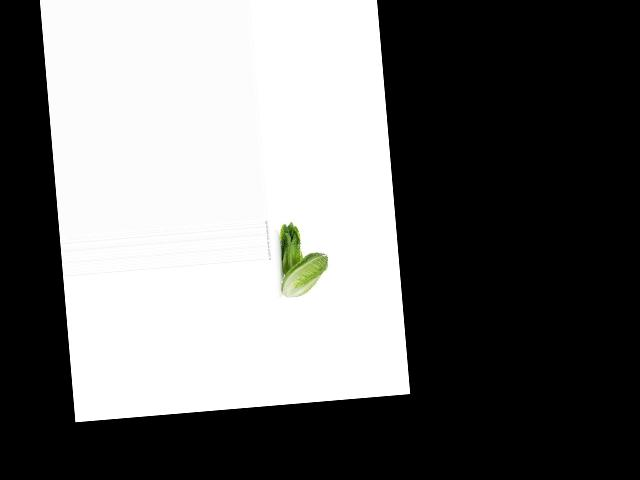lettuce: (271, 221, 309, 275)
